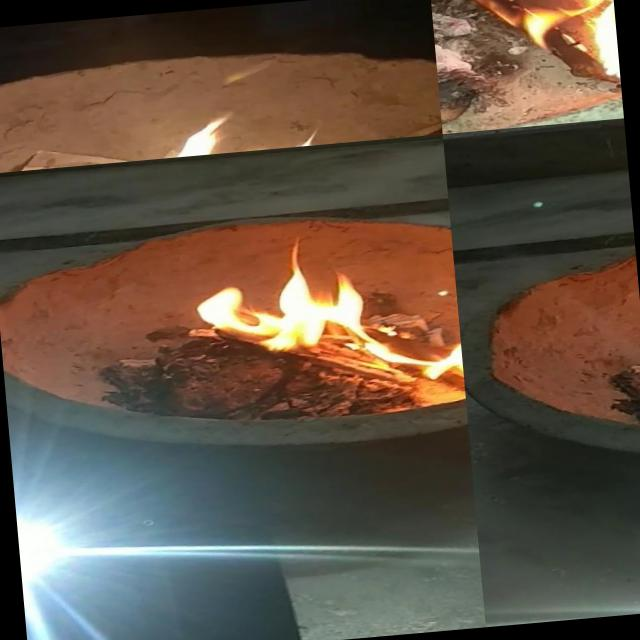fire: (183, 247, 465, 416), (45, 98, 327, 168), (429, 0, 620, 101)
